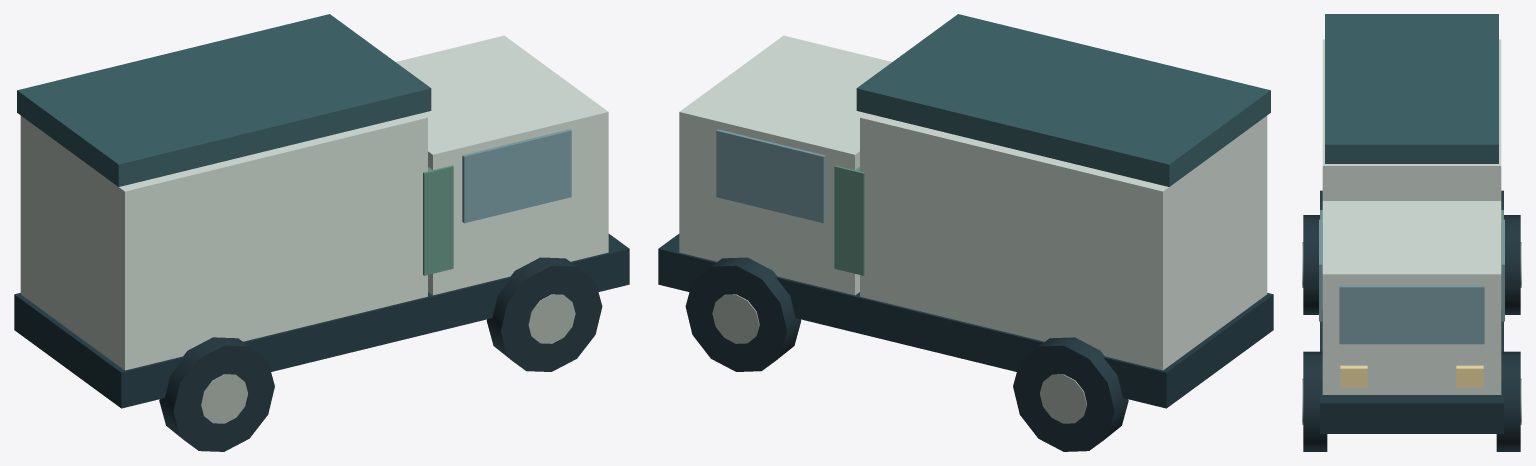
The model's file is electric-truck.glb.
3 renders of one model, left to right at view 1: azimuth 30°, elevation 25°; view 2: azimuth 150°, elevation 25°; view 3: azimuth 270°, elevation 25°, orthographic. The views are drawn at different scales.
Parts seen in each view (by area): view 1: electric-truck (×10); view 2: electric-truck (×10); view 3: electric-truck (×14).
Part boxes in pixels (<box>): electric-truck (×10): <box>14,14,629,451</box>; electric-truck (×10): <box>658,14,1273,451</box>; electric-truck (×14): <box>1303,14,1520,451</box>.
Bounding box in the file's own units: 5.2 × 2.94 × 2.27.
